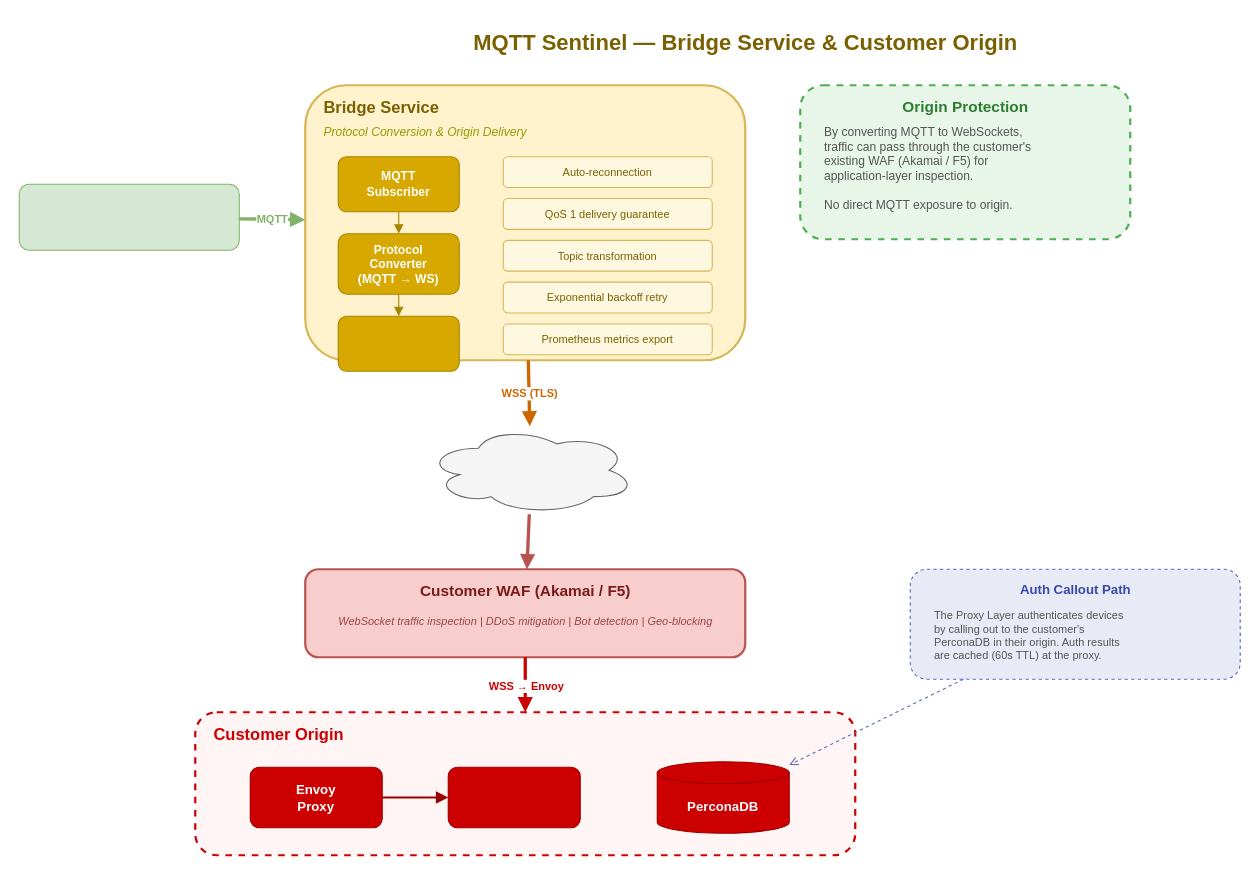
The diagram is 1260 pixels wide and 875 high, and some of its shapes have lost their labels. The box of each missing label's shape, as (x1, y1, x2, y2) in pixels:
Core Broker (inspected, buffered messages): (18, 183, 239, 250)
Internet / WAN: (425, 425, 635, 514)
Mosquitto Broker: (447, 766, 580, 828)
WebSocket Publisher: (337, 315, 459, 371)
